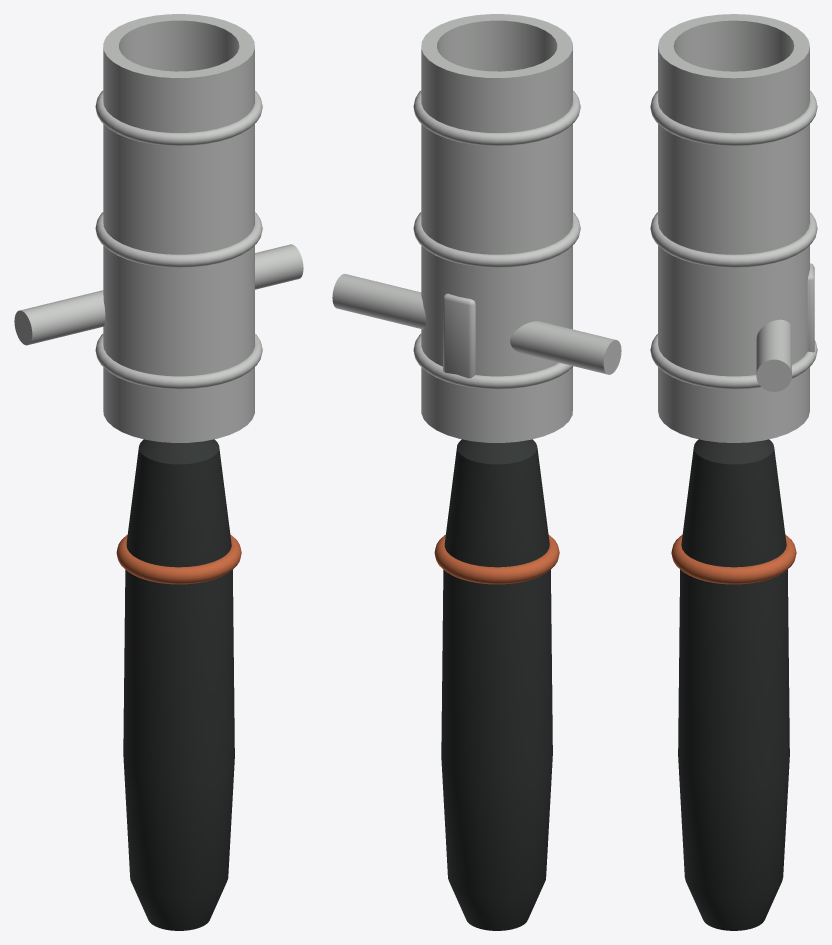
File: soldering_station_iron_cradle.glb
3 views of the same model, side by side, from view 1: azimuth 30°, elevation 25°; view 2: azimuth 150°, elevation 25°; view 3: azimuth 270°, elevation 25° (orthographic).
Parts seen in each view (by area): view 1: soldering_station_iron_cradle; view 2: soldering_station_iron_cradle; view 3: soldering_station_iron_cradle.
Boxes of the visible parts, x1,y1,x2,y2 form: soldering_station_iron_cradle: (14,14,303,930); soldering_station_iron_cradle: (332,14,621,930); soldering_station_iron_cradle: (650,14,817,930).
Size of the model in its own units: 0.07 by 0.215 by 0.0374.
